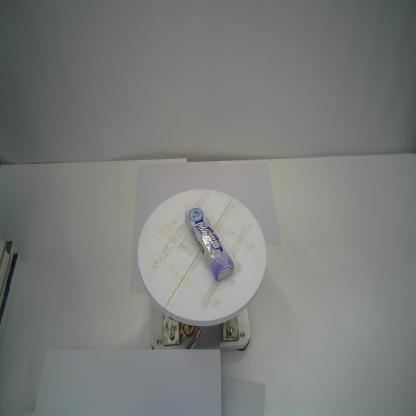Candy: (183, 204, 236, 282)
